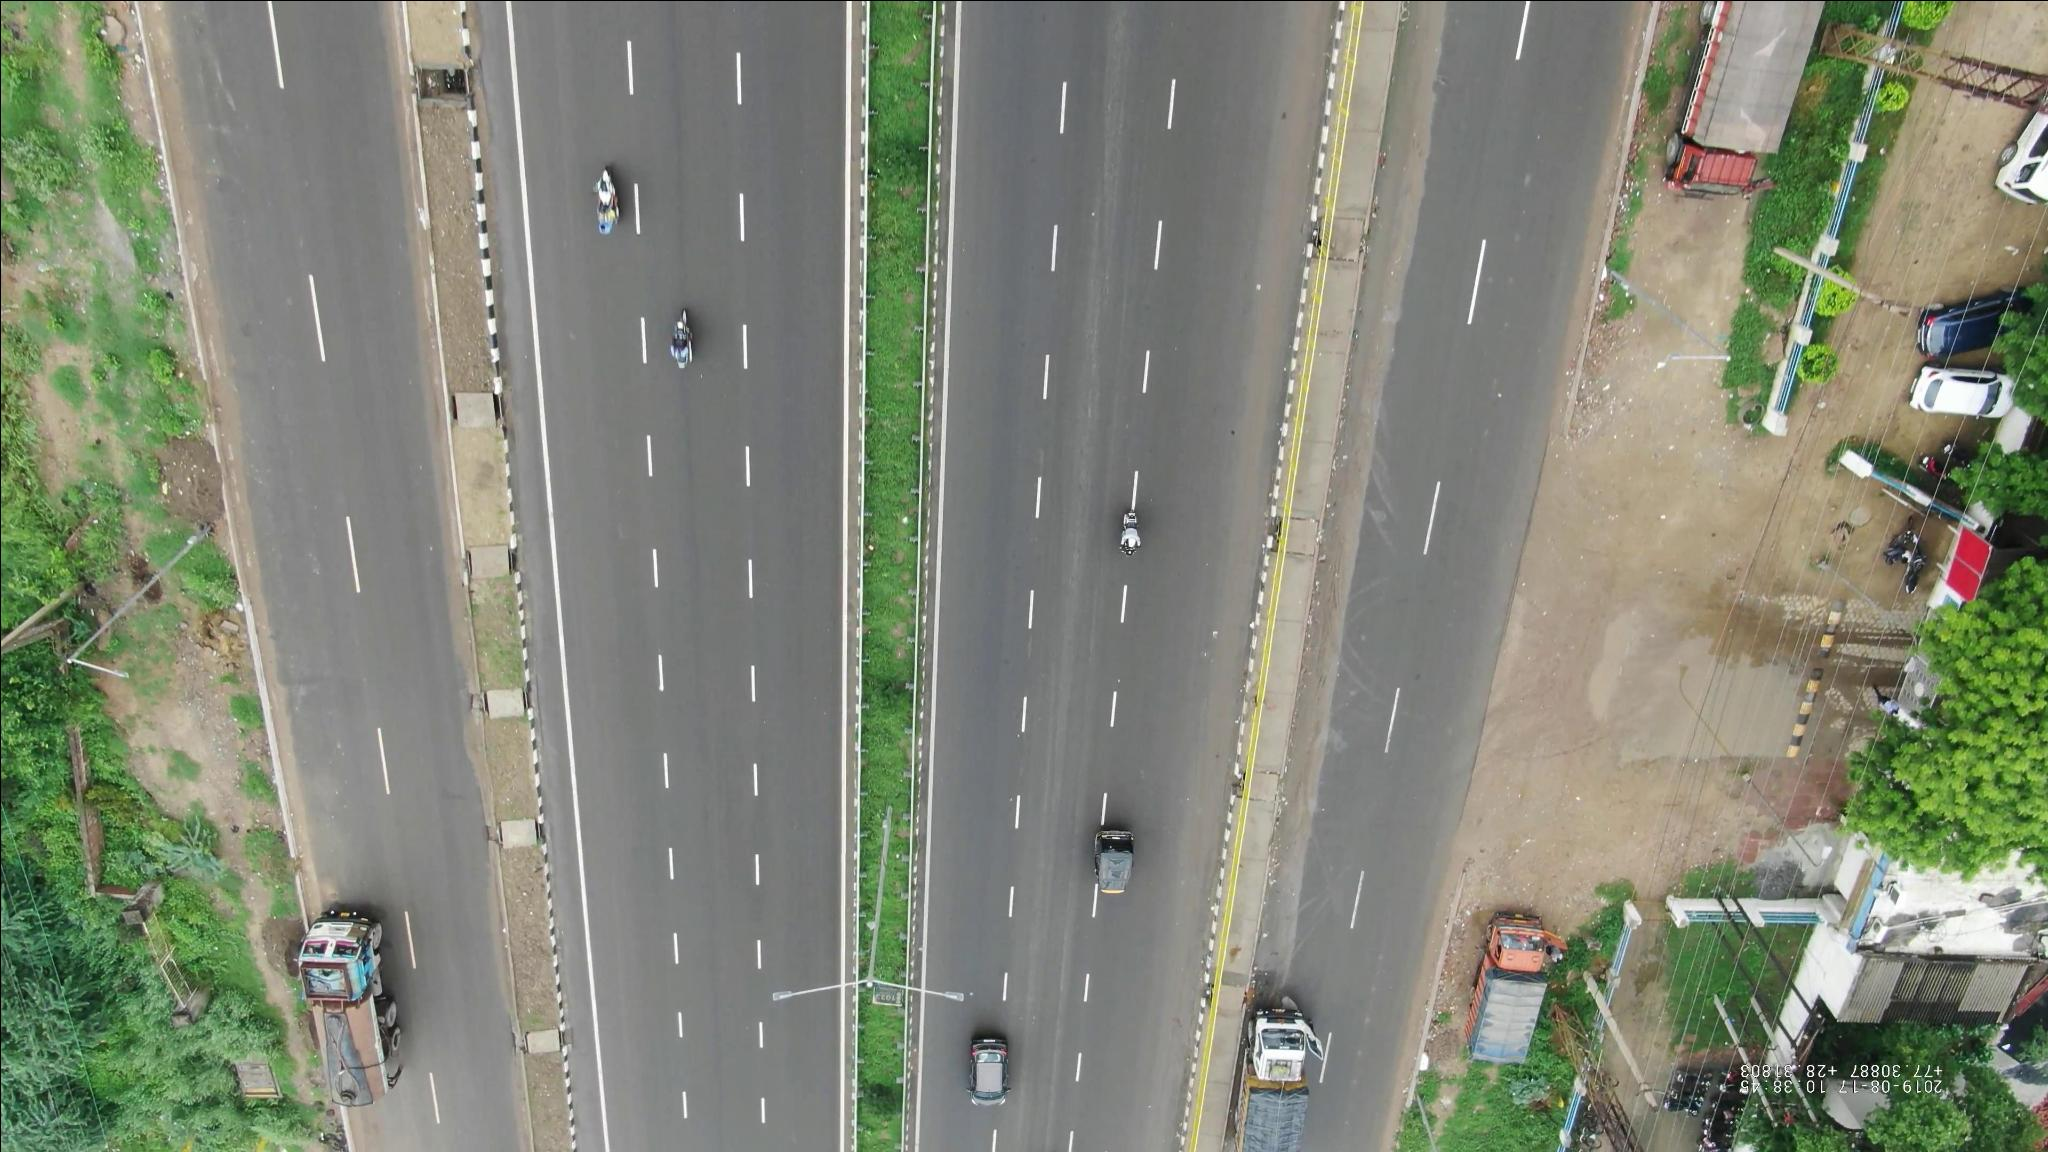Potholes: (1300, 820, 1355, 956), (1333, 663, 1398, 762), (1367, 468, 1412, 582)
